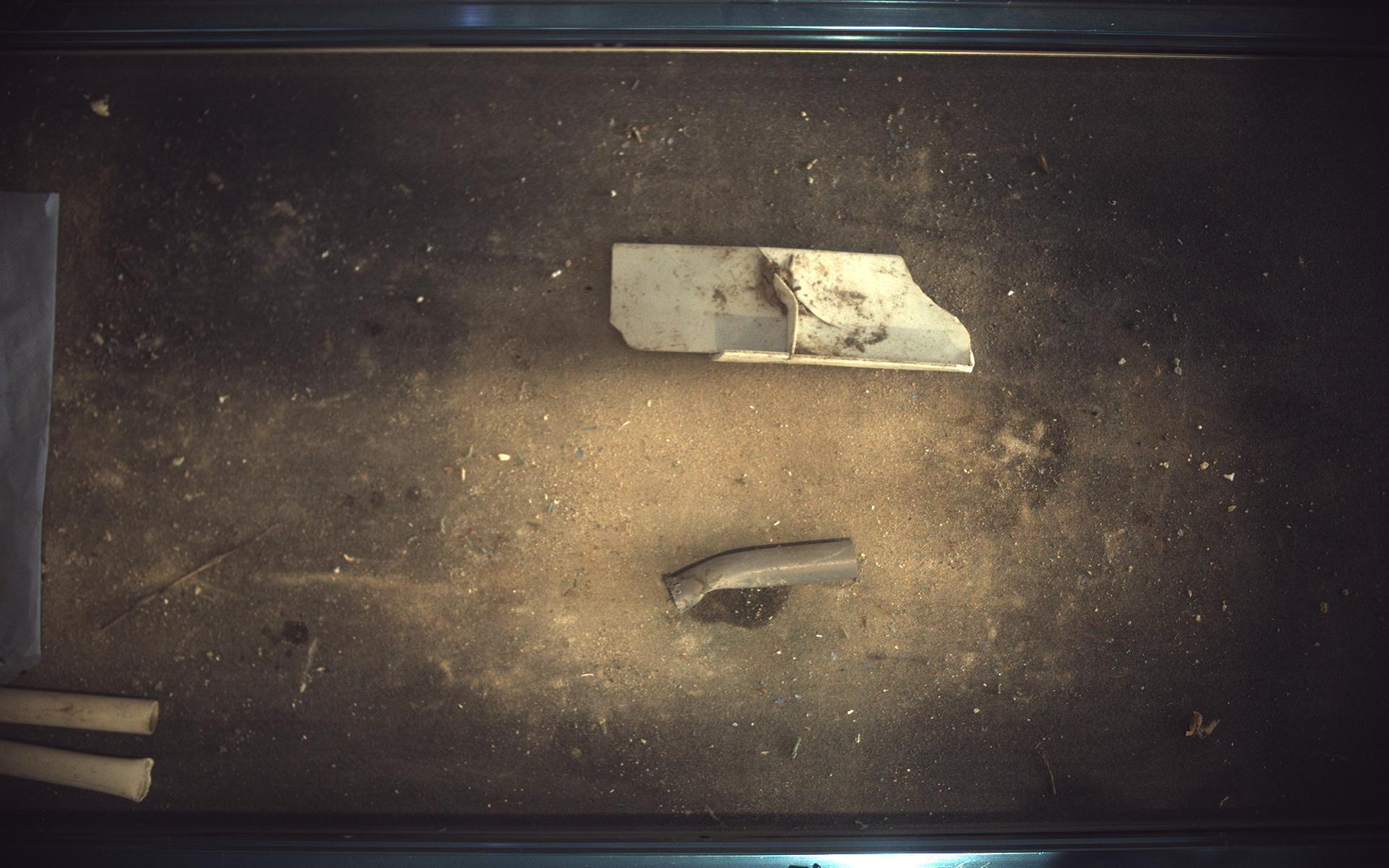pipes: (665, 539, 860, 613), (1, 742, 153, 804), (1, 689, 158, 736)
plastic: (611, 243, 977, 372)
